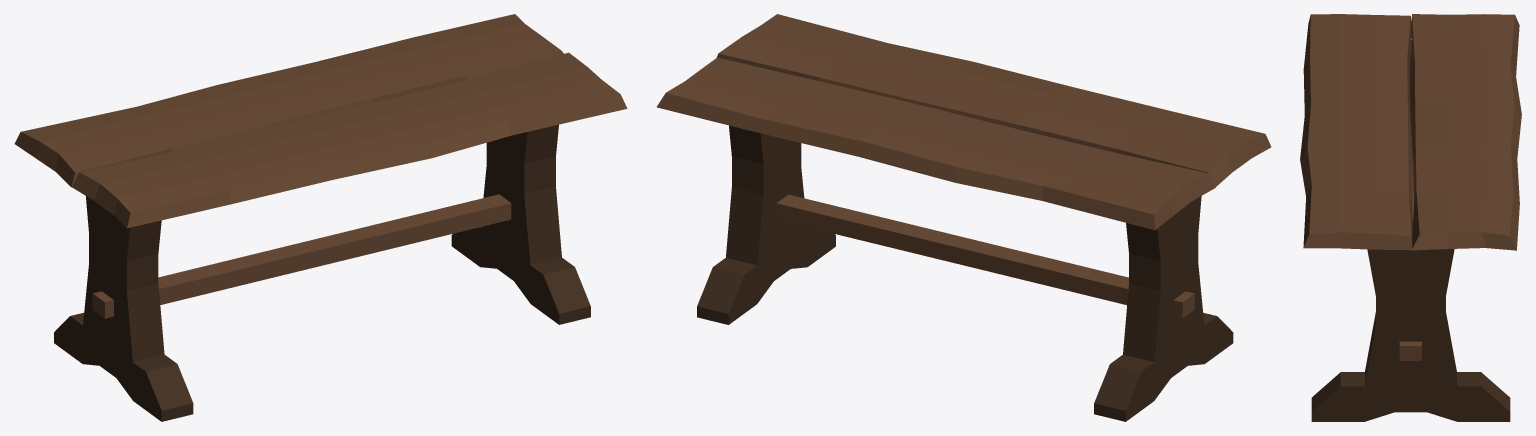
File: Стол.fbx
The picture shows the model from 3 angles, left to right: view 1: azimuth 30°, elevation 25°; view 2: azimuth 150°, elevation 25°; view 3: azimuth 270°, elevation 25°; orthographic projection. The views are drawn at different scales.
Visible parts, largest first — view 1: Cube.008; view 2: Cube.008; view 3: Cube.008.
Boxes of the visible parts, box(x1,y1,x2,y2) form: Cube.008: box(14, 14, 627, 421); Cube.008: box(657, 14, 1271, 421); Cube.008: box(1300, 14, 1521, 421).
Size of the model in its own units: 840 by 350 by 348.
